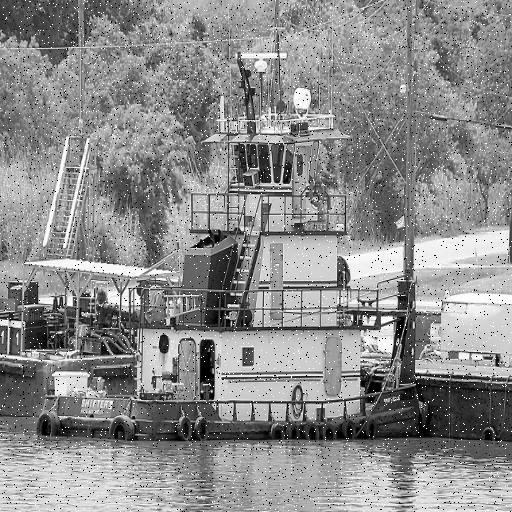tugboat: (34, 48, 428, 452)
